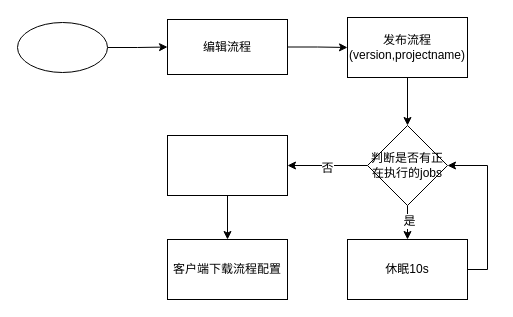
Some shapes in this 513 by 317 pixel diagram are drawn without their labels. Each missing label, with the centre of its shape:
"开始" belongs at [62,47].
"推送流程更新消息" belongs at [227,165].
